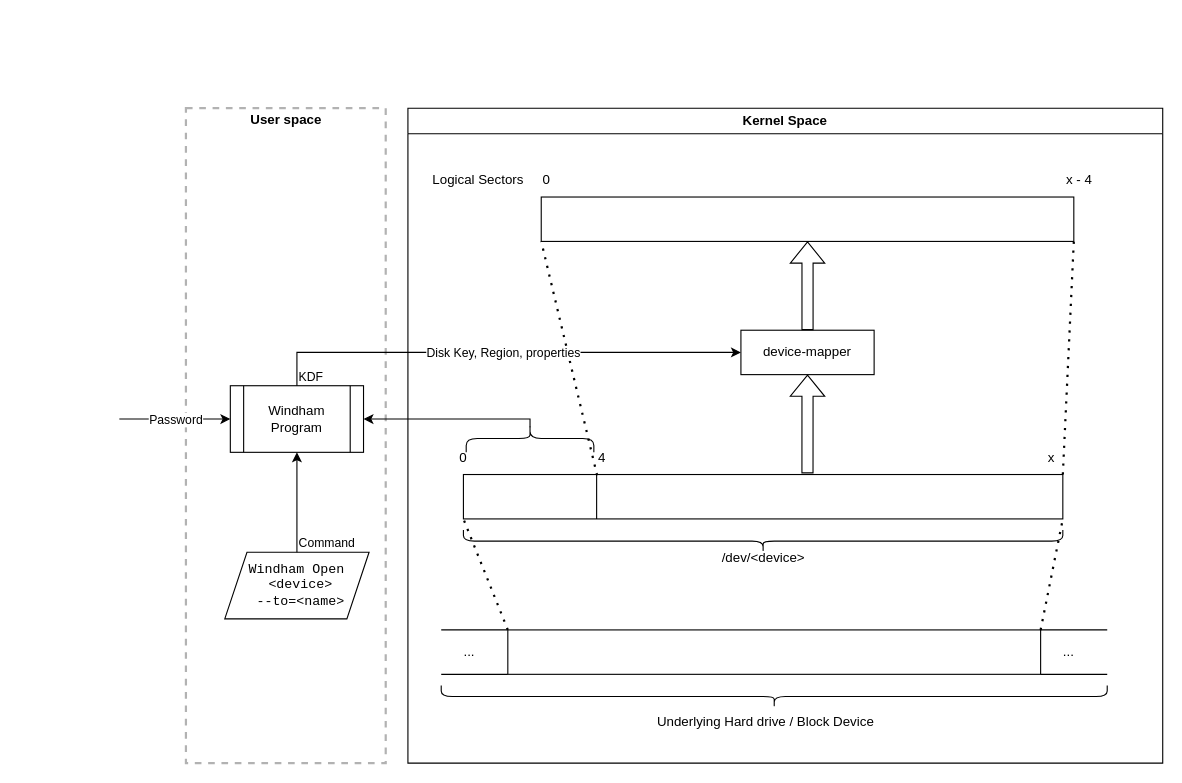
Some shapes in this 1182 by 783 pixel diagram are drawn without their labels. The centre of each missing label's shape, as x and y in pixels:
"/dev/mapper/<name>" goes at point 807,218.
"Windham metadata" goes at point 529,437.
